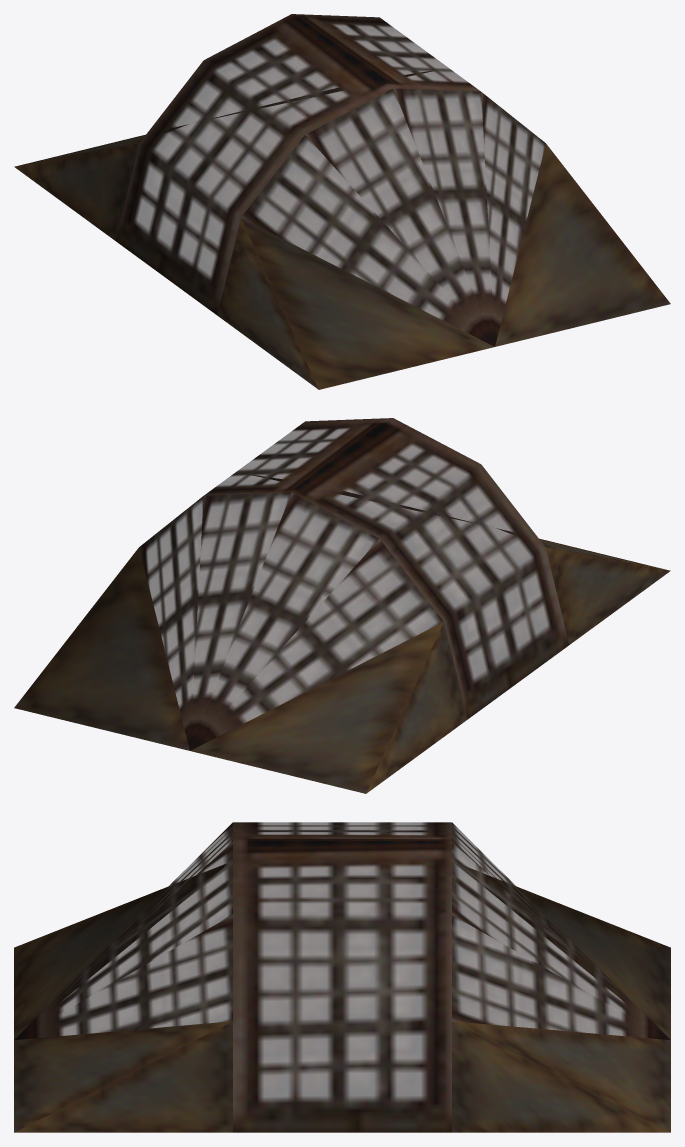
Rendered from prop-081.glb.
3 views of the same model, one above another, from view 1: azimuth 30°, elevation 25°; view 2: azimuth 150°, elevation 25°; view 3: azimuth 270°, elevation 25° (orthographic). The views are drawn at different scales.
Visible parts, largest first — view 1: root; view 2: root; view 3: root.
Boxes of the visible parts, x1,y1,x2,y2 form: root: [14, 14, 670, 389]; root: [14, 418, 670, 793]; root: [14, 822, 670, 1132].
Size of the model in its own units: 2 by 1 by 3.
2 materials, 2 textured.
